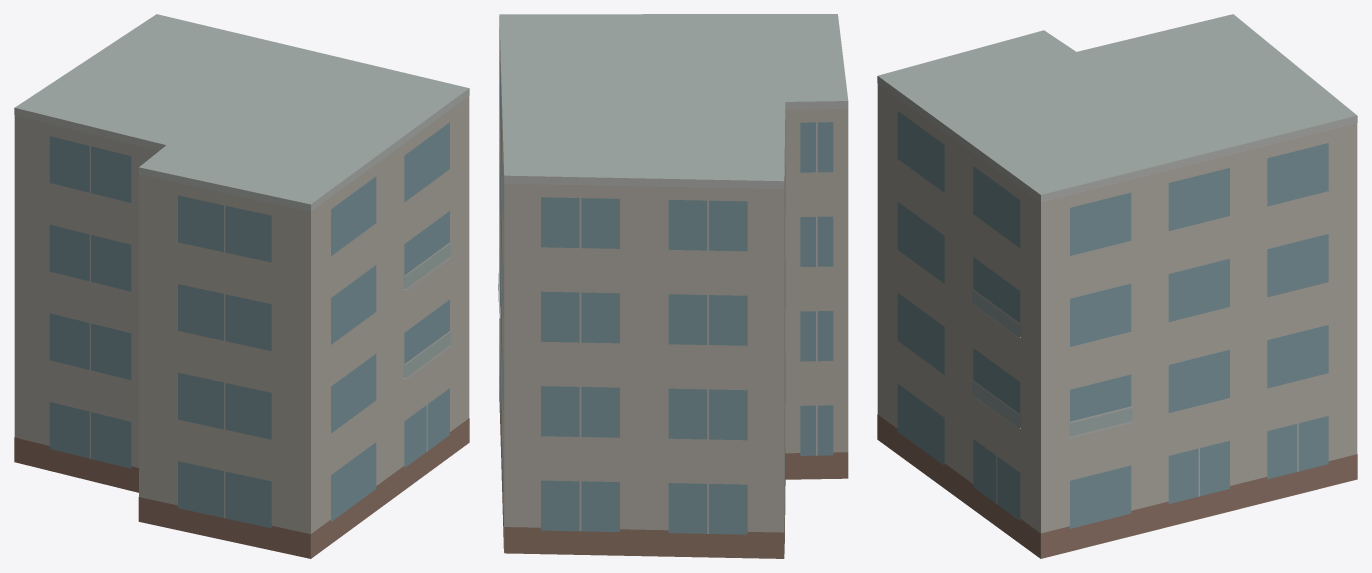
The model's file is survey-upis-32676118.glb.
The picture shows the model from 3 angles, left to right: view 1: azimuth 30°, elevation 25°; view 2: azimuth 150°, elevation 25°; view 3: azimuth 270°, elevation 25°; orthographic projection. The views are drawn at different scales.
Parts seen in each view (by area): view 1: survey-upis-32676118.tmp; view 2: survey-upis-32676118.tmp; view 3: survey-upis-32676118.tmp.
Part boxes in pixels (bbox=[...]): survey-upis-32676118.tmp: bbox=[14, 14, 469, 558]; survey-upis-32676118.tmp: bbox=[498, 14, 848, 558]; survey-upis-32676118.tmp: bbox=[877, 14, 1357, 558].
Bounding box in the file's own units: 12.49 × 11.7 × 13.99.
